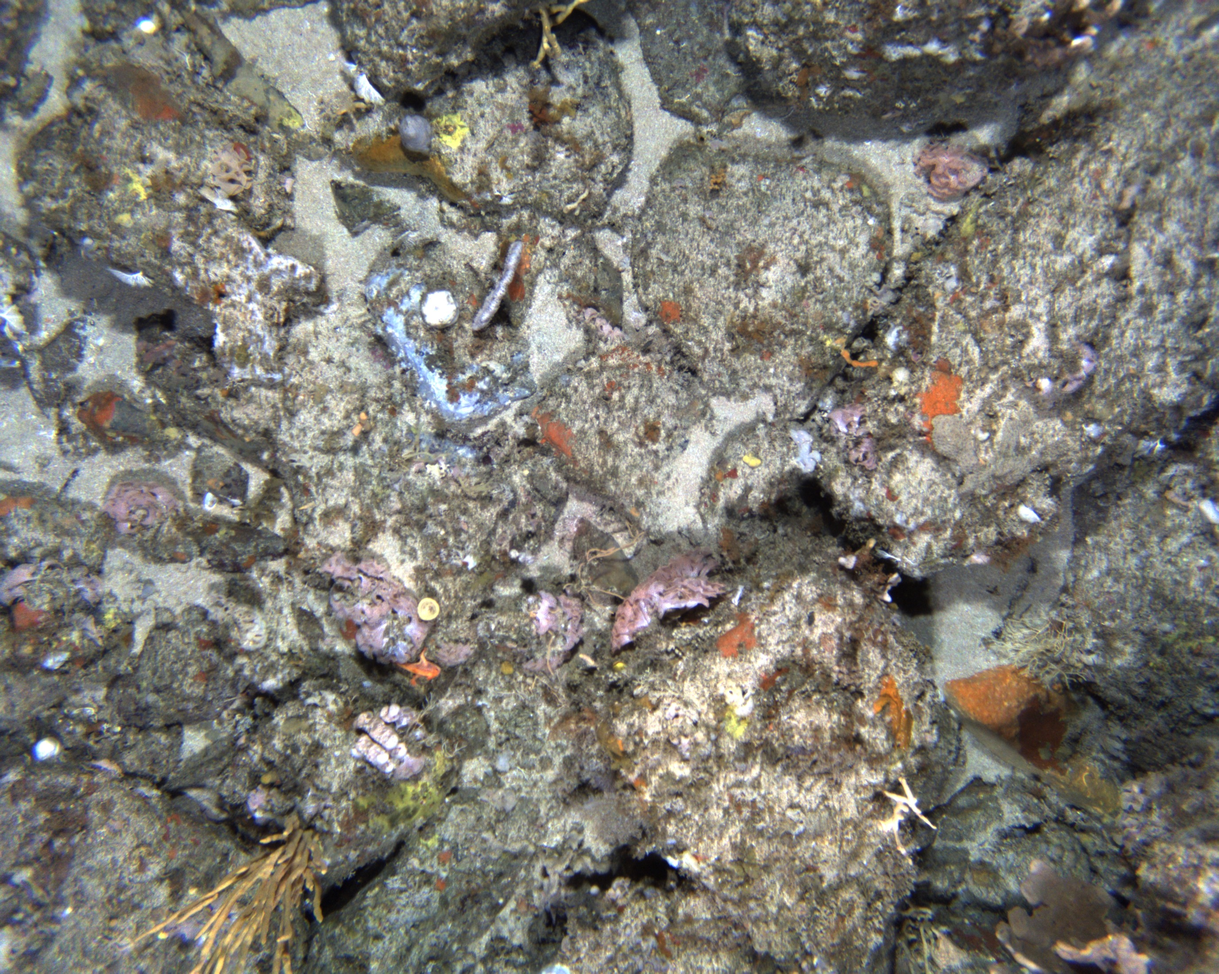Brachionichthyidae: (390, 645, 443, 688)
